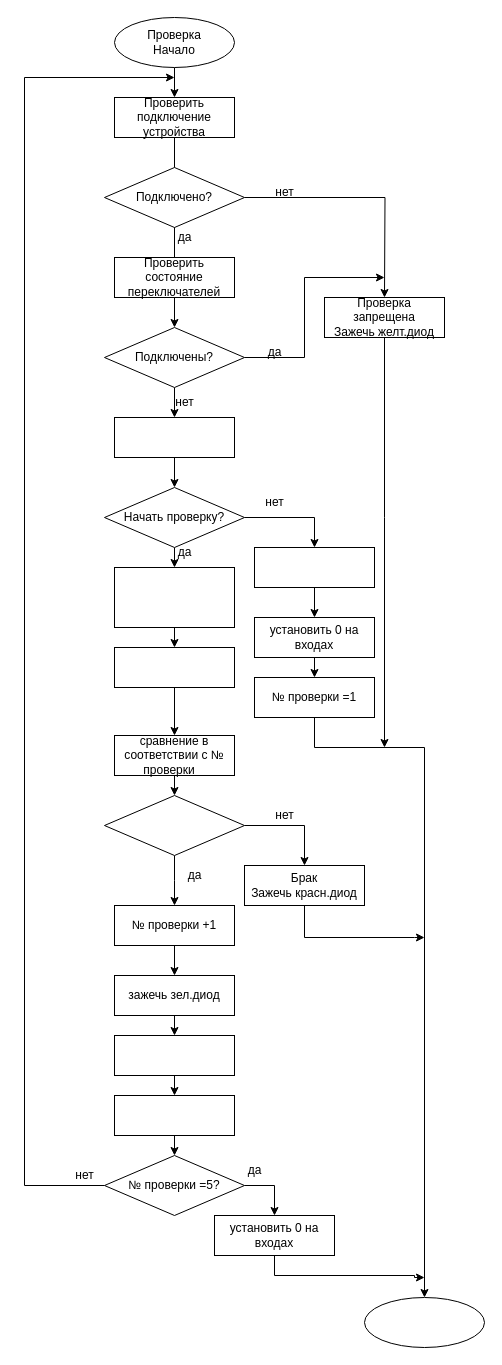
The diagram is 502 pixels wide and 1365 high, and some of its shapes have lost their labels. The shapes that lost their labels are listed below. From the top down, each one's box as (x1, y1, x2, y2) in pixels, then its label:
(114, 416, 234, 458): проверить режим работы проверки
(254, 546, 374, 588): погасить все светодиоды
(114, 566, 234, 628): установить состояния на входе в соответствии с № проверки
(114, 646, 234, 688): чтение состояний на выходе
(104, 794, 244, 856): Совпали?
(114, 1034, 234, 1076): подождать 10с
(114, 1094, 234, 1136): потушить зел.диод
(364, 1296, 484, 1348): Проверка Конец
